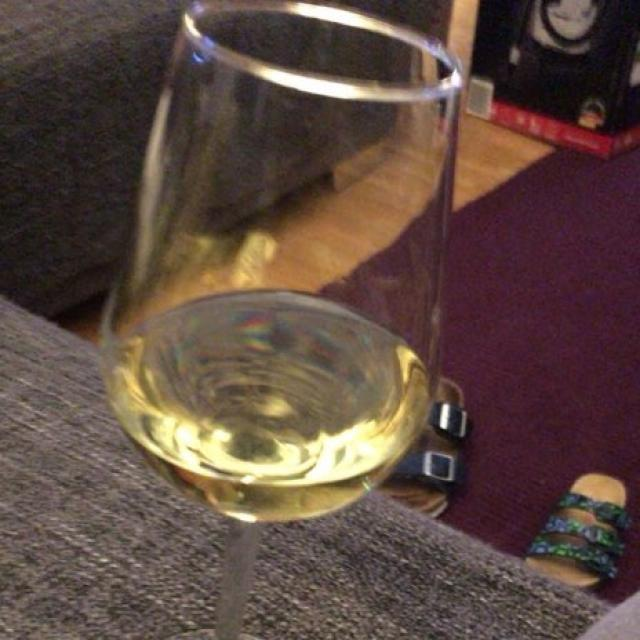wine: (102, 290, 414, 536)
